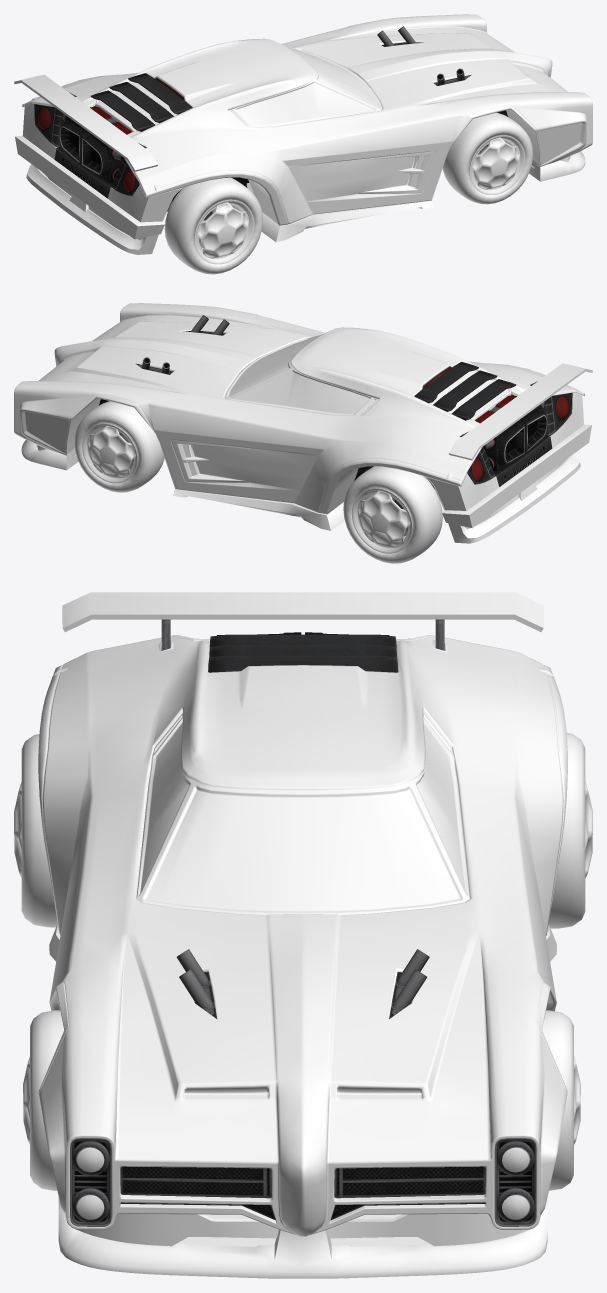
Rendered from rl_dominus.glb.
3 views of the same model, one above another, from view 1: azimuth 30°, elevation 25°; view 2: azimuth 150°, elevation 25°; view 3: azimuth 270°, elevation 25° (orthographic). The views are drawn at different scales.
Parts seen in each view (by area): view 1: Dominus, Cristiano_-_BR_(Dominus), Cristiano_-_FR_(Dominus); view 2: Dominus, Cristiano_-_BL_(Dominus), Cristiano_-_FL_(Dominus); view 3: Dominus, Cristiano_-_BL_(Dominus), Cristiano_-_BR_(Dominus), Cristiano_-_FR_(Dominus), Cristiano_-_FL_(Dominus).
Boxes of the visible parts, left/top/right/bottom form: Dominus: left=14, top=14, right=592, bottom=254; Cristiano_-_BR_(Dominus): left=164, top=177, right=262, bottom=274; Cristiano_-_FR_(Dominus): left=442, top=112, right=533, bottom=204; Dominus: left=14, top=303, right=592, bottom=543; Cristiano_-_BL_(Dominus): left=343, top=466, right=442, bottom=563; Cristiano_-_FL_(Dominus): left=74, top=401, right=164, bottom=492; Dominus: left=38, top=592, right=567, bottom=1278; Cristiano_-_BL_(Dominus): left=548, top=733, right=592, bottom=928; Cristiano_-_BR_(Dominus): left=14, top=734, right=57, bottom=927; Cristiano_-_FR_(Dominus): left=23, top=1010, right=64, bottom=1190; Cristiano_-_FL_(Dominus): left=542, top=1010, right=580, bottom=1190.
Bounding box in the file's own units: 151 × 42.04 × 79.25.
13 materials, 1 textured.
